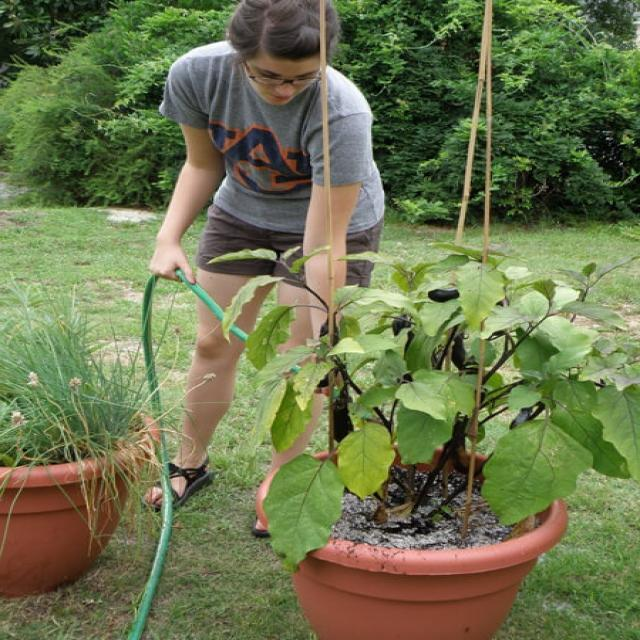brinjal: (246, 246, 640, 562)
plant: (0, 290, 142, 467)
